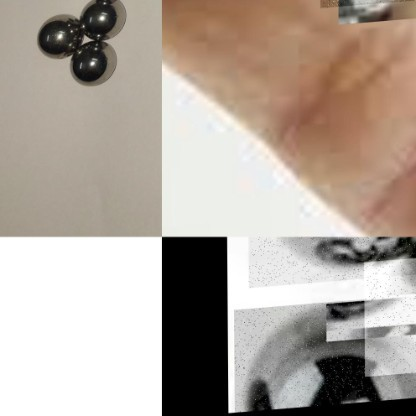ironball: (233, 299, 415, 414), (247, 236, 415, 290), (363, 261, 415, 380), (68, 41, 129, 90), (79, 0, 128, 43), (37, 15, 86, 58)
